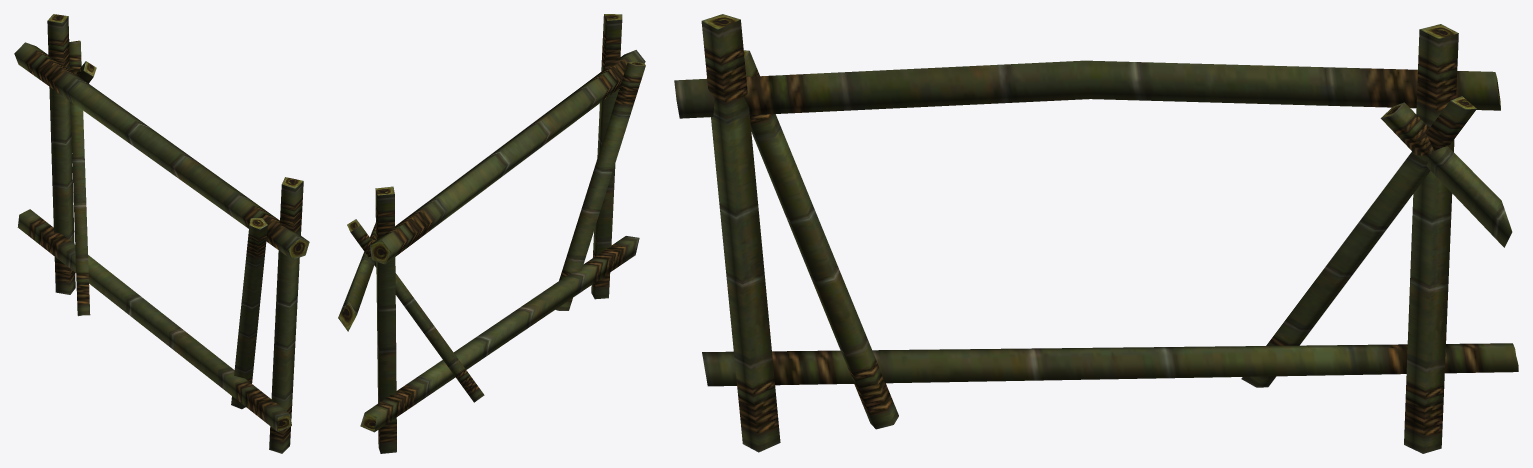
File: weilan_zhufang_21.fbx
3 views of the same model, side by side, from view 1: azimuth 30°, elevation 25°; view 2: azimuth 150°, elevation 25°; view 3: azimuth 270°, elevation 25° (orthographic). The views are drawn at different scales.
Visible parts, largest first — view 1: weilan_zhufang_21; view 2: weilan_zhufang_21; view 3: weilan_zhufang_21.
Part boxes in pixels (x1=…): weilan_zhufang_21: x1=14, y1=14, x2=309, y2=453; weilan_zhufang_21: x1=338, y1=14, x2=645, y2=453; weilan_zhufang_21: x1=674, y1=14, x2=1518, y2=453.
Size of what is drawn, in the model's own units: 48.03 by 177 by 318.
